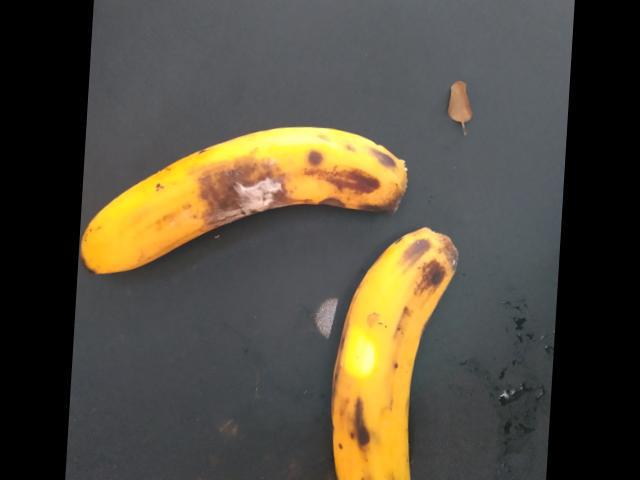overripe: (55, 112, 418, 290), (304, 223, 457, 479)
